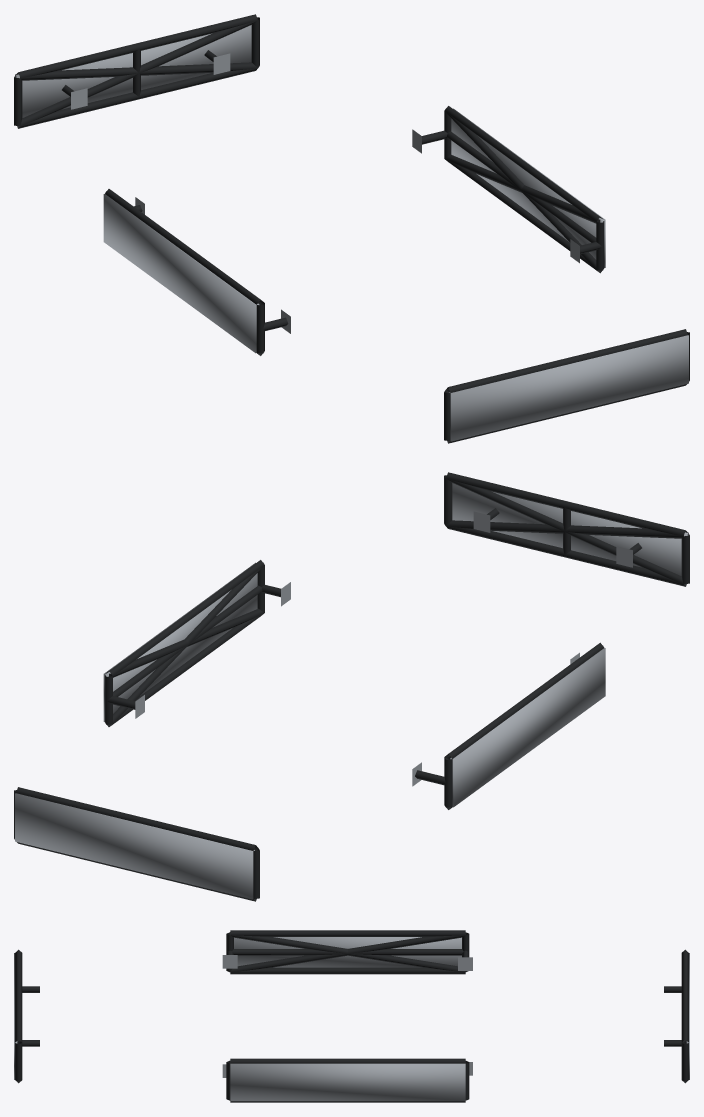
File: corsalto_cobalita_protecao.glb
The picture shows the model from 3 angles, top to bottom: view 1: azimuth 30°, elevation 25°; view 2: azimuth 150°, elevation 25°; view 3: azimuth 270°, elevation 25°; orthographic projection. The views are drawn at different scales.
Visible parts, largest first — view 1: Protection_front_Level3_Details, Protection_left_Level3_Details, Protection_rear_Level1_Details, Protection_rear_Level3_Details, Protection_right_Level1_Details, Protection_rear_Level2_Details, Protection_right_Level2_Details, Protection_right_Level3_Details, Protection_front_Level1_Details, Protection_left_Level1_Details; view 2: Protection_rear_Level3_Details, Protection_left_Level3_Details, Protection_front_Level1_Details, Protection_front_Level3_Details, Protection_right_Level1_Details, Protection_front_Level2_Details, Protection_right_Level2_Details, Protection_right_Level3_Details, Protection_rear_Level1_Details, Protection_left_Level1_Details; view 3: Protection_right_Level3_Details, Protection_left_Level2_Details, Protection_left_Level1_Details, Protection_left_Level3_Details, Protection_right_Level1_Details, Protection_rear_Level1_Details, Protection_front_Level1_Details.
Boxes of the visible parts, x1,y1,x2,y2 form: Protection_front_Level3_Details: (449,335,688,441); Protection_left_Level3_Details: (103,194,259,353); Protection_rear_Level1_Details: (14,14,259,128); Protection_rear_Level3_Details: (15,25,251,117); Protection_right_Level1_Details: (412,106,604,273); Protection_rear_Level2_Details: (16,20,257,127); Protection_right_Level2_Details: (445,112,603,272); Protection_right_Level3_Details: (451,108,605,267); Protection_front_Level1_Details: (444,329,689,443); Protection_left_Level1_Details: (105,189,290,355); Protection_rear_Level3_Details: (15,793,254,899); Protection_left_Level3_Details: (450,648,605,807); Protection_front_Level1_Details: (444,472,689,586); Protection_front_Level3_Details: (452,483,688,575); Protection_right_Level1_Details: (104,560,290,726); Protection_front_Level2_Details: (446,478,687,585); Protection_right_Level2_Details: (105,565,264,726); Protection_right_Level3_Details: (103,562,257,721); Protection_rear_Level1_Details: (14,787,259,901); Protection_left_Level1_Details: (412,642,604,809); Protection_right_Level3_Details: (230,1063,465,1101); Protection_left_Level2_Details: (230,932,465,972); Protection_left_Level1_Details: (222,930,472,974); Protection_left_Level3_Details: (234,937,461,967); Protection_right_Level1_Details: (222,1058,472,1102); Protection_rear_Level1_Details: (664,949,688,1083); Protection_front_Level1_Details: (15,949,39,1083).
Bounding box in the file's own units: 2.29 × 0.354 × 4.94.
Materials: 1 (1 with a texture image).
